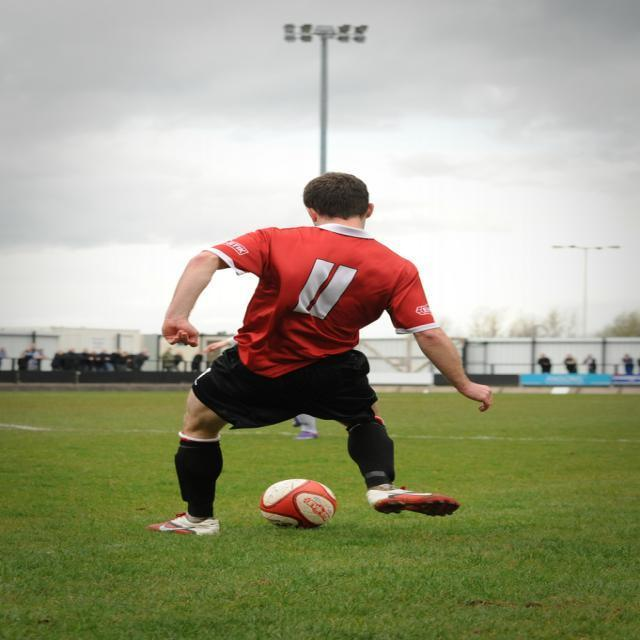football: (253, 476, 356, 536)
